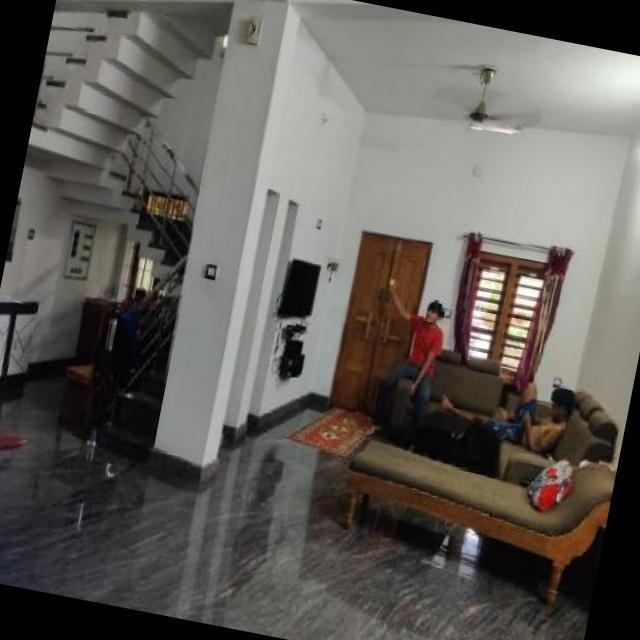-: (371, 256, 410, 297)
